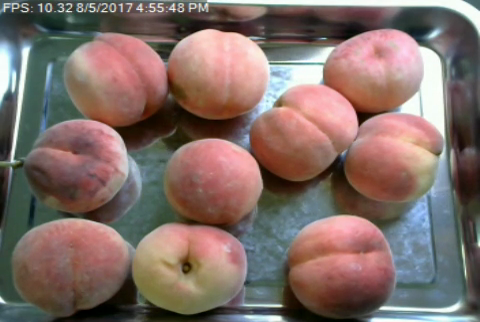Peach: (11, 216, 127, 315), (285, 215, 395, 319), (248, 83, 358, 181), (135, 222, 247, 316), (64, 32, 168, 128), (24, 118, 129, 213), (167, 26, 270, 120), (321, 25, 424, 114), (343, 111, 442, 202), (163, 138, 263, 225)
